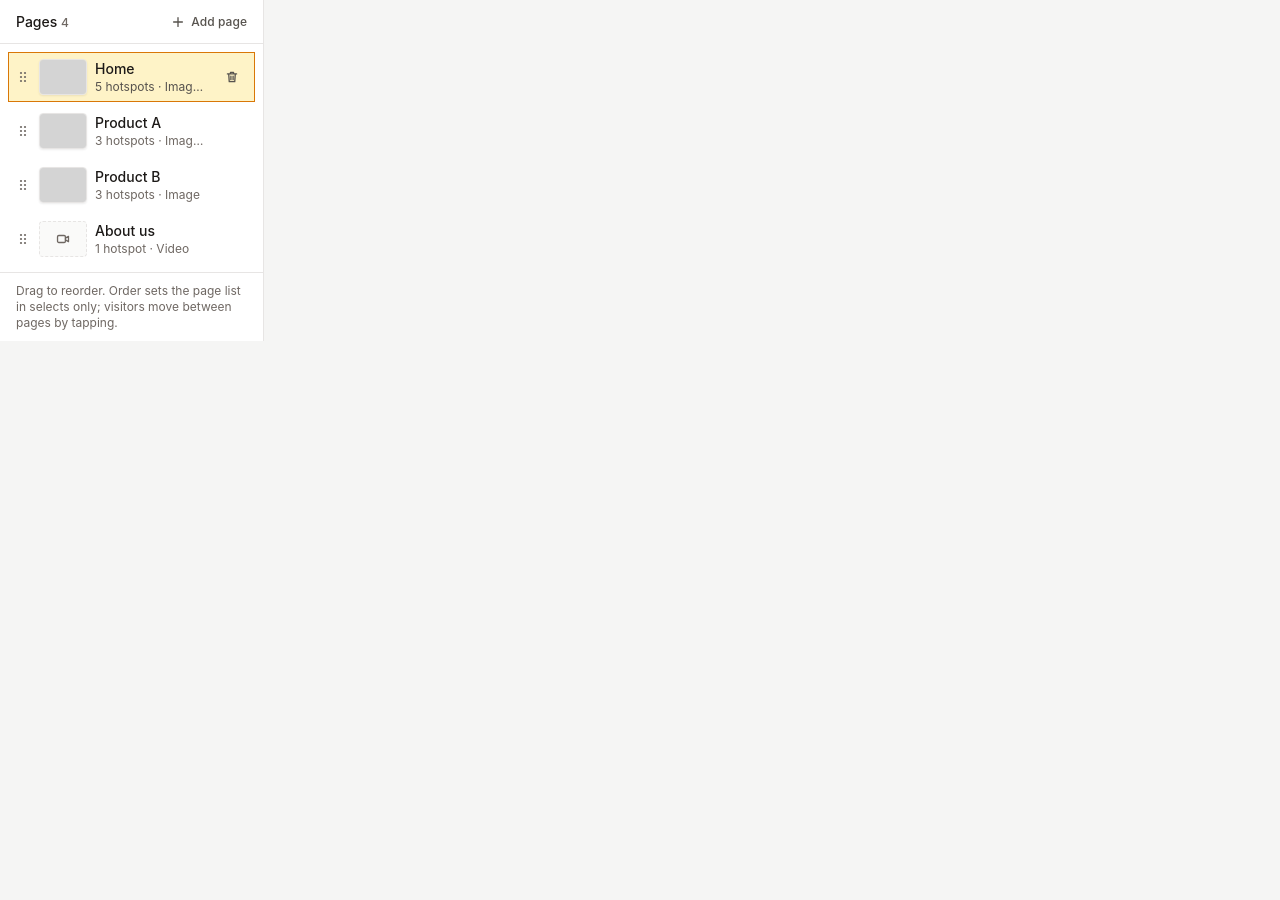
Scenario: PageList (spec PG-1) › deleting › keeps the page on Cancel and on Escape
The image size is (1280, 900).
Click the button named "Delete page Home" at (232, 77), box [218, 63, 246, 91]
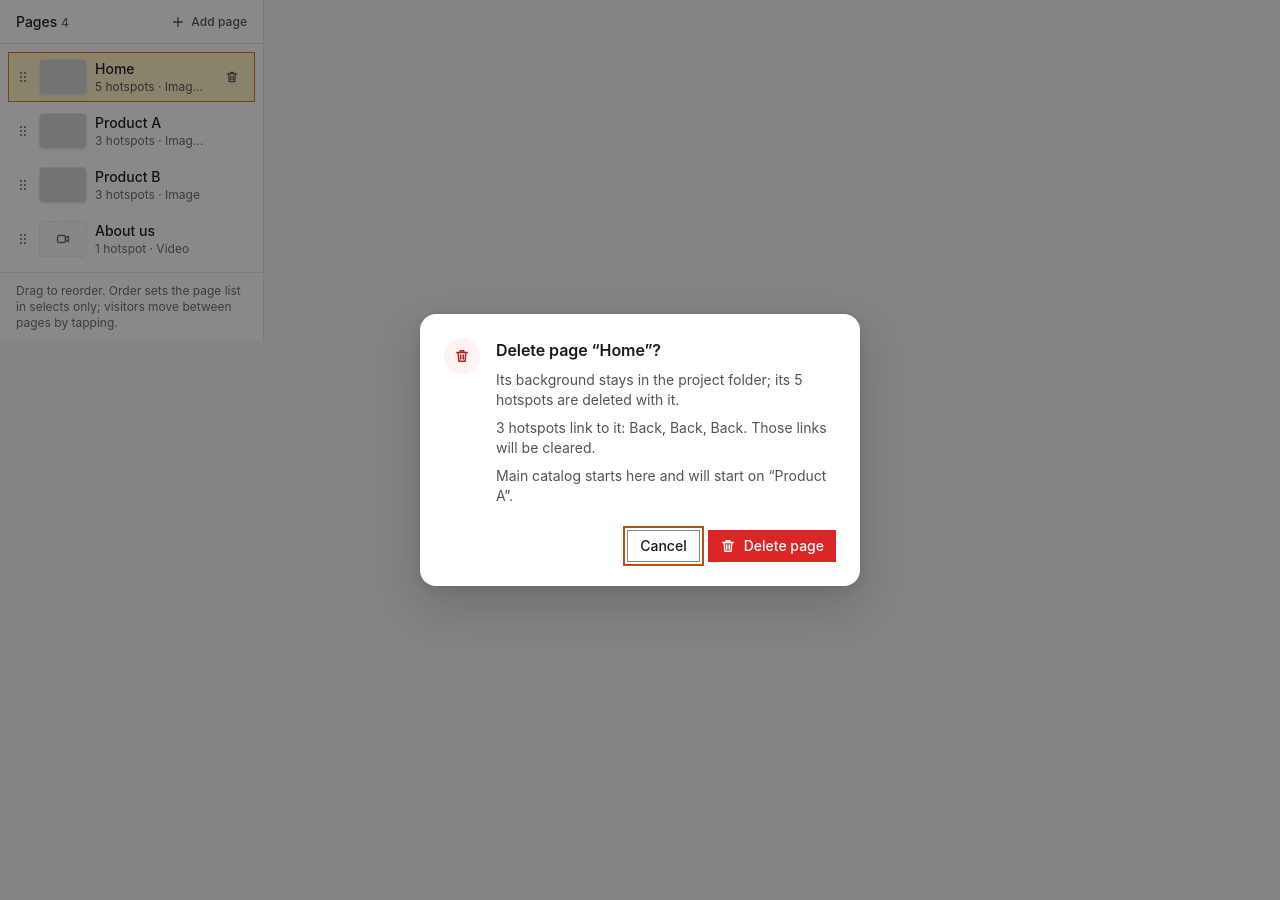
Click the button "Cancel" at (663, 546), box [627, 530, 700, 562]
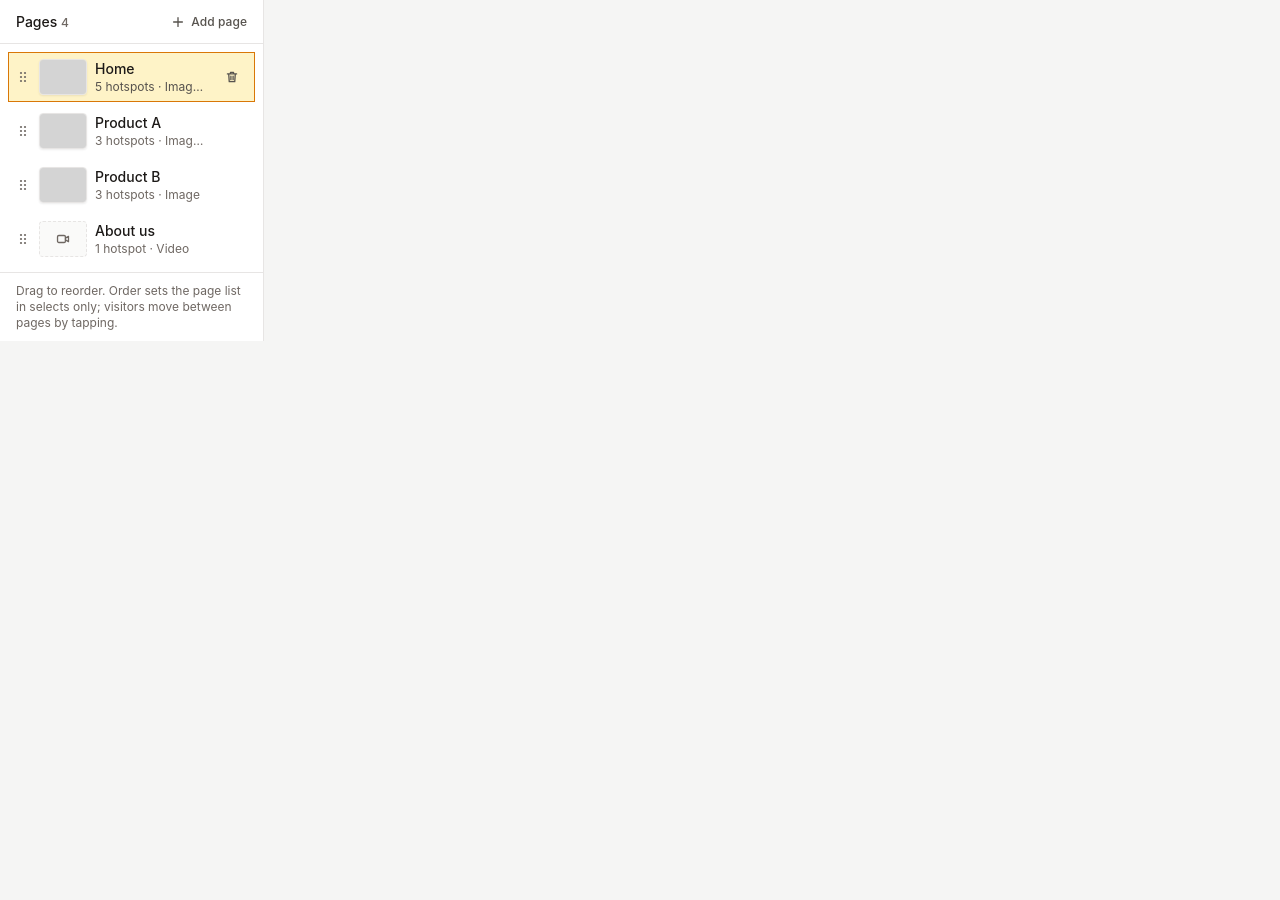
Click the button named "Delete page Home" at (232, 77), box [218, 63, 246, 91]
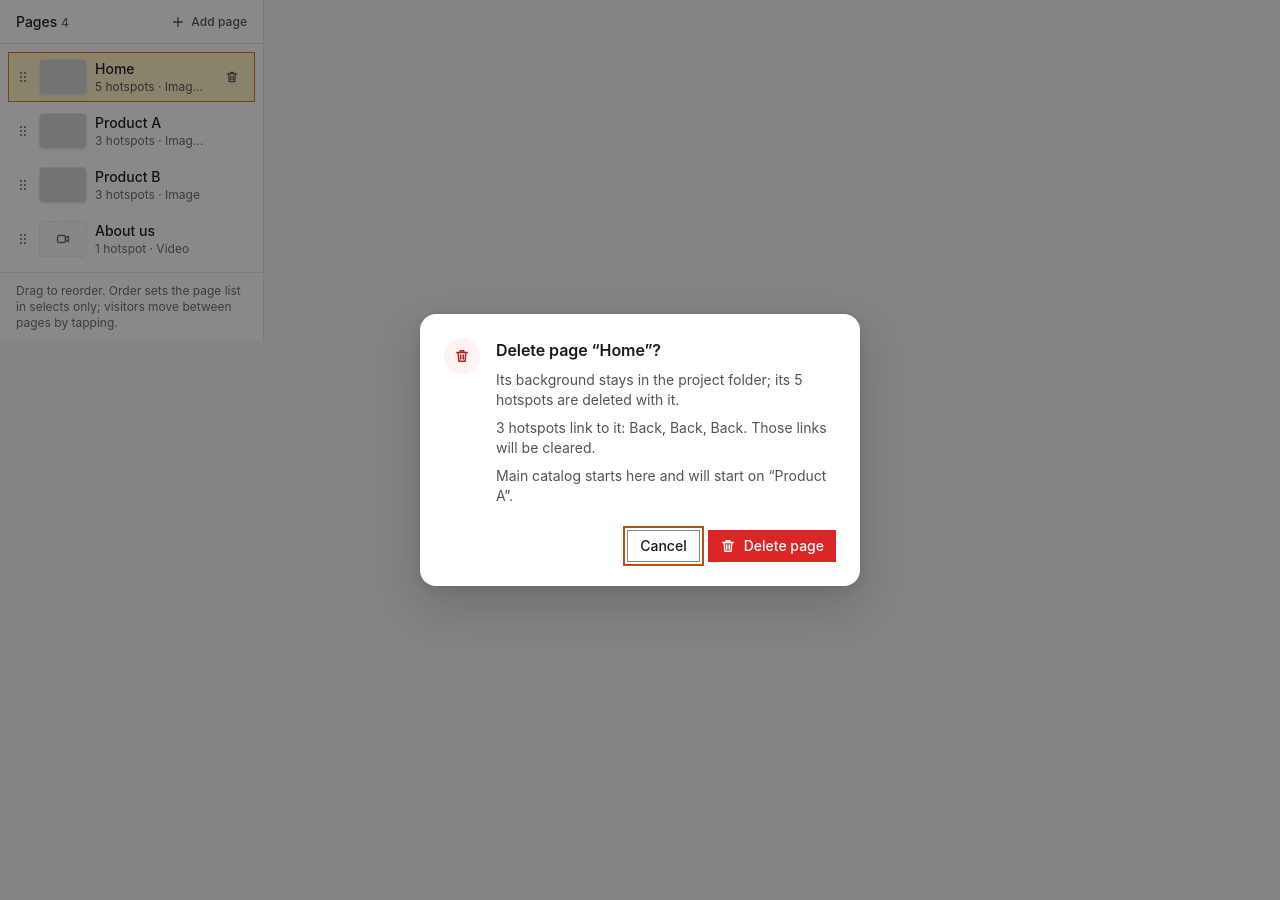
Press Escape in the dialog, box [420, 314, 860, 586]
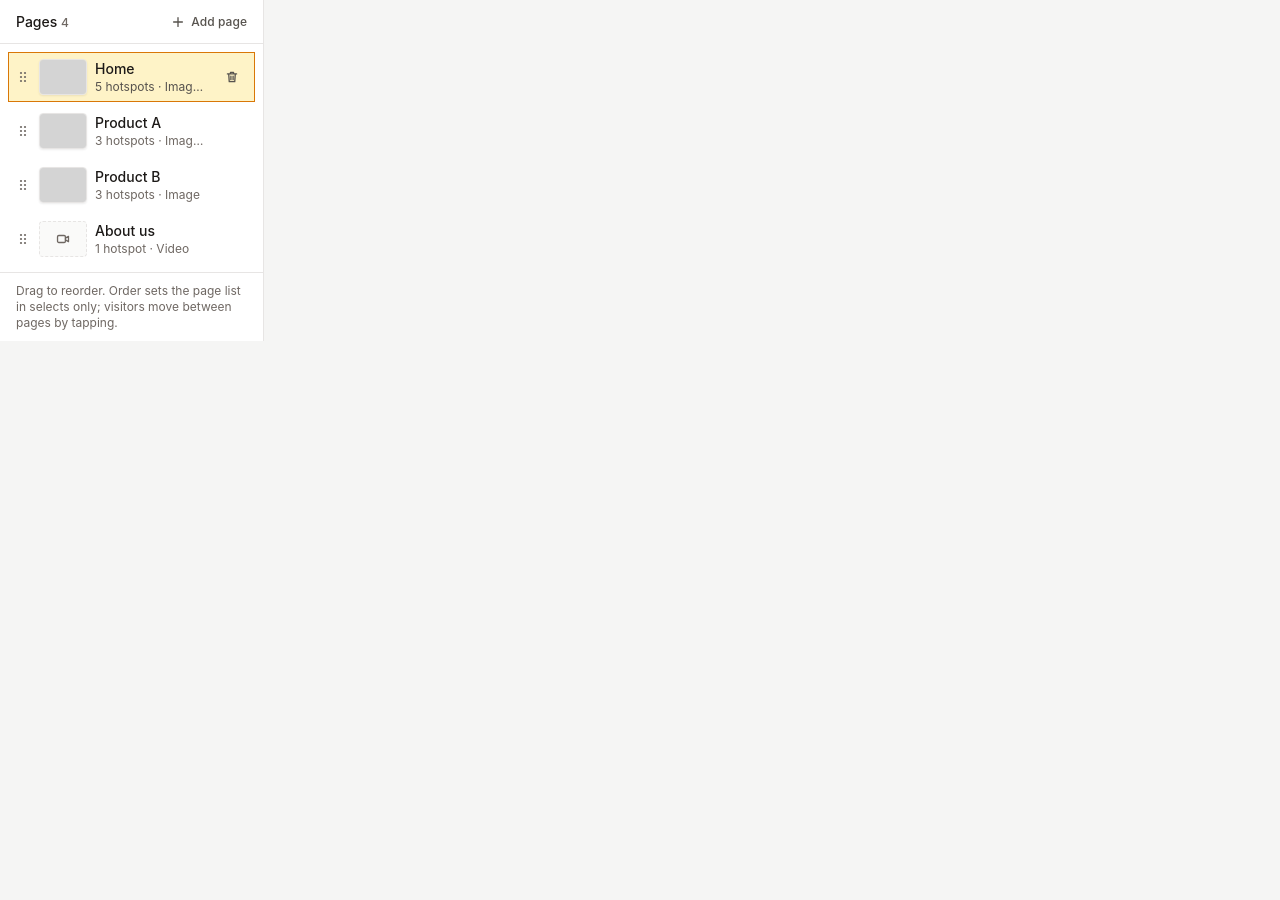
Now the dialog is gone
